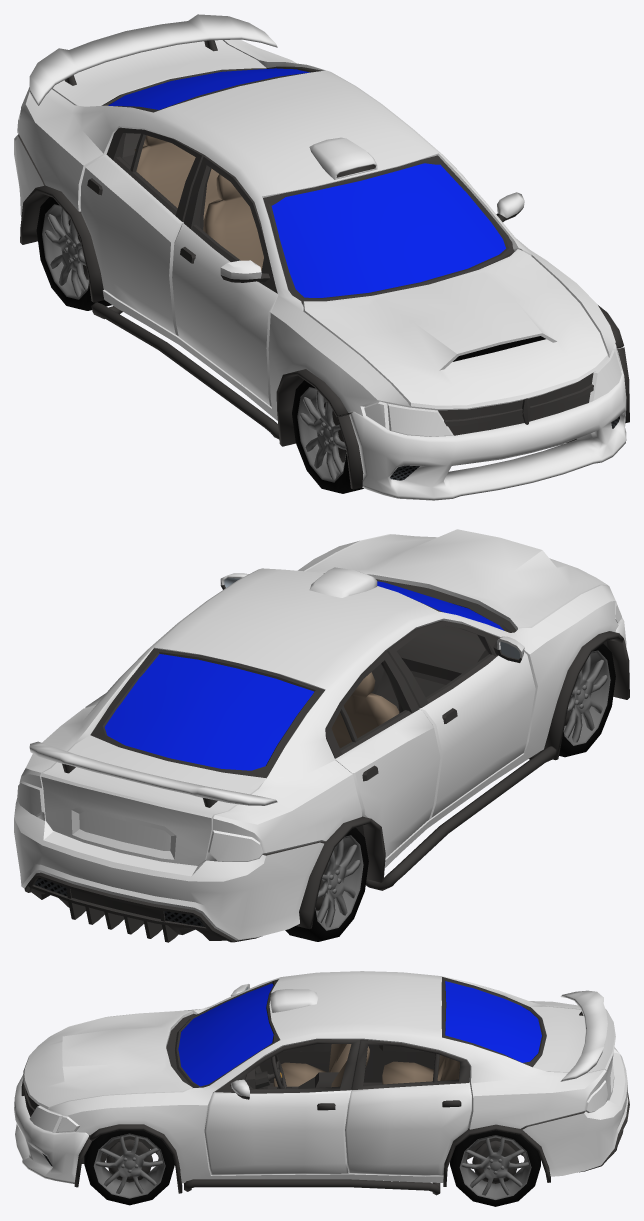
The model's file is Car01.fbx.
3 views of the same model, one above another, from view 1: azimuth 30°, elevation 25°; view 2: azimuth 150°, elevation 25°; view 3: azimuth 270°, elevation 25° (orthographic). The views are drawn at different scales.
Visible parts, largest first — view 1: SM_Veh_Sedan_01, SM_Veh_Sedan_01_Bonnet_02, SM_Veh_Sedan_01_Glass.001, SM_Veh_Sedan_01_Front_Bumper_01, SM_Veh_Sedan_01_Door_RF, SM_Veh_Sedan_01_Door_RR, SM_Veh_Sedan_01_Spoiler_01, SM_Veh_Sedan_01_Fenders_03, SM_Veh_Sedan_01_Boot, SM_Veh_Sedan_01_Wheel_fr, SM_Veh_Sedan_01_Wheel_rr, SM_Veh_Sedan_01_Glass (+3 smaller); view 2: SM_Veh_Sedan_01, SM_Veh_Sedan_01_Rear_Bumper_03, SM_Veh_Sedan_01_Glass, SM_Veh_Sedan_01_Boot, SM_Veh_Sedan_01_Bonnet_02, SM_Veh_Sedan_01_Door_RF, SM_Veh_Sedan_01_Door_RR, SM_Veh_Sedan_01_Fenders_03, SM_Veh_Sedan_01_Wheel_rr, SM_Veh_Sedan_01_Wheel_fr, SM_Veh_Sedan_01_Spoiler_01, SM_Veh_Sedan_01_Side_Skirts_03.001 (+2 smaller); view 3: SM_Veh_Sedan_01, SM_Veh_Sedan_01_Door_LF, SM_Veh_Sedan_01_Door_LR, SM_Veh_Sedan_01_Bonnet_02, SM_Veh_Sedan_01_Glass.001, SM_Veh_Sedan_01_Rear_Bumper_03, SM_Veh_Sedan_01_Wheel_rl, SM_Veh_Sedan_01_Wheel_fl, SM_Veh_Sedan_01_Glass, SM_Veh_Sedan_01_Front_Bumper_01, SM_Veh_Sedan_01_Boot, SM_Veh_Sedan_01_Side_Skirts_03 (+6 smaller).
Part boxes in pixels (bbox=[...]): SM_Veh_Sedan_01: bbox=[17, 39, 621, 442]; SM_Veh_Sedan_01_Bonnet_02: bbox=[302, 249, 608, 410]; SM_Veh_Sedan_01_Glass.001: bbox=[271, 163, 505, 297]; SM_Veh_Sedan_01_Front_Bumper_01: bbox=[349, 355, 626, 500]; SM_Veh_Sedan_01_Door_RF: bbox=[172, 155, 278, 406]; SM_Veh_Sedan_01_Door_RR: bbox=[80, 127, 204, 336]; SM_Veh_Sedan_01_Spoiler_01: bbox=[29, 14, 277, 105]; SM_Veh_Sedan_01_Fenders_03: bbox=[20, 185, 629, 489]; SM_Veh_Sedan_01_Boot: bbox=[52, 40, 266, 106]; SM_Veh_Sedan_01_Wheel_fr: bbox=[292, 380, 363, 493]; SM_Veh_Sedan_01_Wheel_rr: bbox=[36, 196, 111, 310]; SM_Veh_Sedan_01_Glass: bbox=[108, 68, 309, 109]; SM_Veh_Sedan_01: bbox=[17, 534, 621, 867]; SM_Veh_Sedan_01_Rear_Bumper_03: bbox=[14, 798, 324, 942]; SM_Veh_Sedan_01_Glass: bbox=[104, 654, 314, 770]; SM_Veh_Sedan_01_Boot: bbox=[41, 735, 265, 865]; SM_Veh_Sedan_01_Bonnet_02: bbox=[306, 529, 607, 630]; SM_Veh_Sedan_01_Door_RF: bbox=[385, 620, 535, 819]; SM_Veh_Sedan_01_Door_RR: bbox=[325, 651, 440, 858]; SM_Veh_Sedan_01_Fenders_03: bbox=[296, 631, 629, 929]; SM_Veh_Sedan_01_Wheel_rr: bbox=[285, 827, 368, 941]; SM_Veh_Sedan_01_Wheel_fr: bbox=[559, 643, 615, 757]; SM_Veh_Sedan_01_Spoiler_01: bbox=[29, 741, 277, 807]; SM_Veh_Sedan_01_Side_Skirts_03.001: bbox=[366, 746, 556, 890]; SM_Veh_Sedan_01: bbox=[21, 971, 614, 1183]; SM_Veh_Sedan_01_Door_LF: bbox=[204, 1039, 360, 1175]; SM_Veh_Sedan_01_Door_LR: bbox=[345, 1039, 471, 1175]; SM_Veh_Sedan_01_Bonnet_02: bbox=[23, 1011, 193, 1110]; SM_Veh_Sedan_01_Glass.001: bbox=[178, 983, 273, 1086]; SM_Veh_Sedan_01_Rear_Bumper_03: bbox=[522, 1047, 629, 1176]; SM_Veh_Sedan_01_Wheel_rl: bbox=[450, 1130, 540, 1206]; SM_Veh_Sedan_01_Wheel_fl: bbox=[84, 1130, 174, 1205]; SM_Veh_Sedan_01_Glass: bbox=[445, 981, 541, 1062]; SM_Veh_Sedan_01_Front_Bumper_01: bbox=[14, 1075, 88, 1183]; SM_Veh_Sedan_01_Boot: bbox=[531, 1006, 615, 1100]; SM_Veh_Sedan_01_Side_Skirts_03: bbox=[184, 1179, 440, 1195].
Size of the model in its own units: 276 by 195 by 654.
